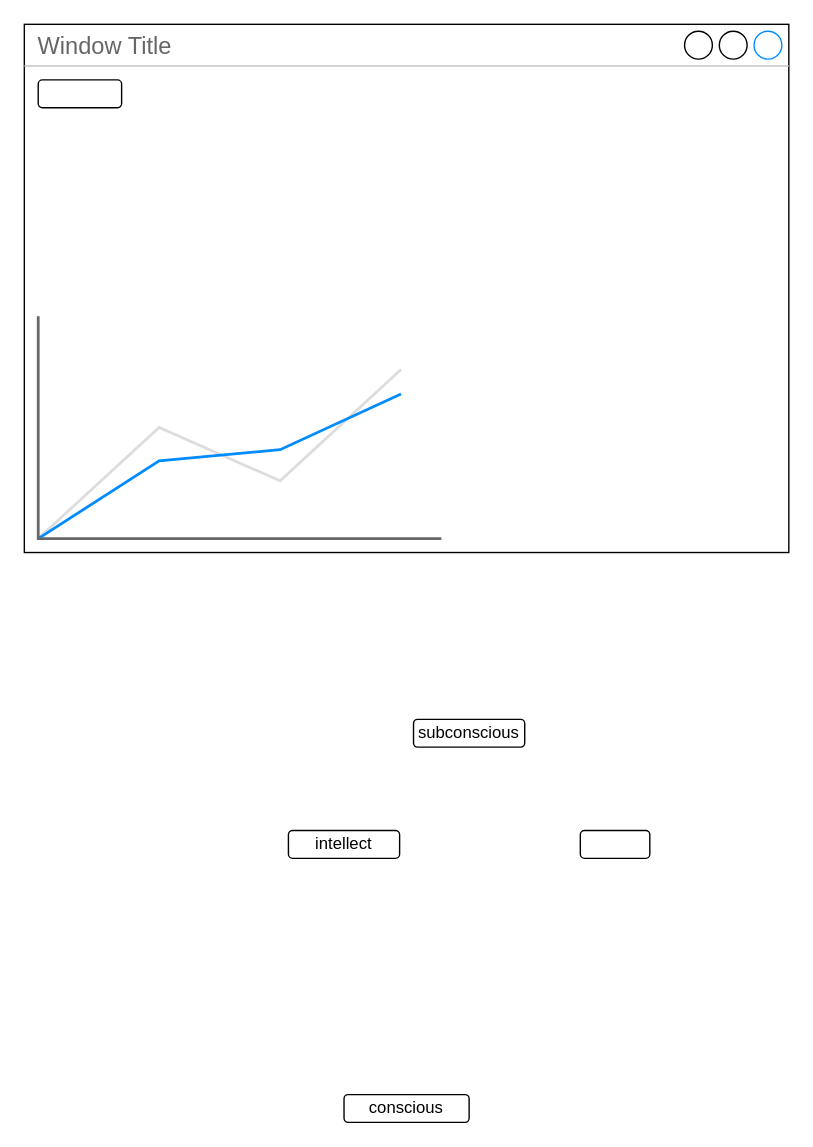
Image size: 813x1147. Some labels were removed from this diagram. Each missing label, with the centre of its shape:
"analytic" goes at (79,93).
"soul" goes at (614,843).
